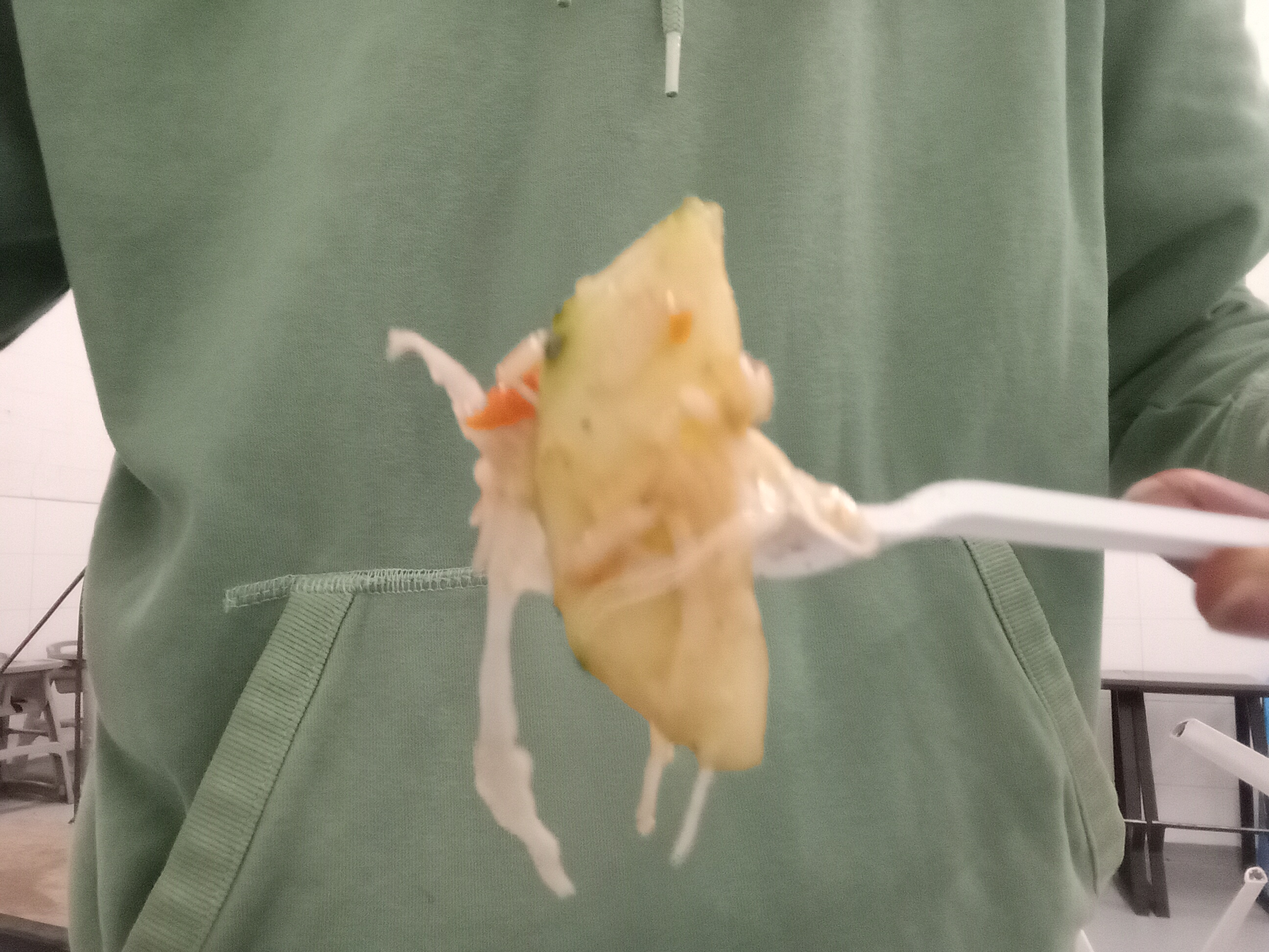Organico: (385, 191, 777, 899)
